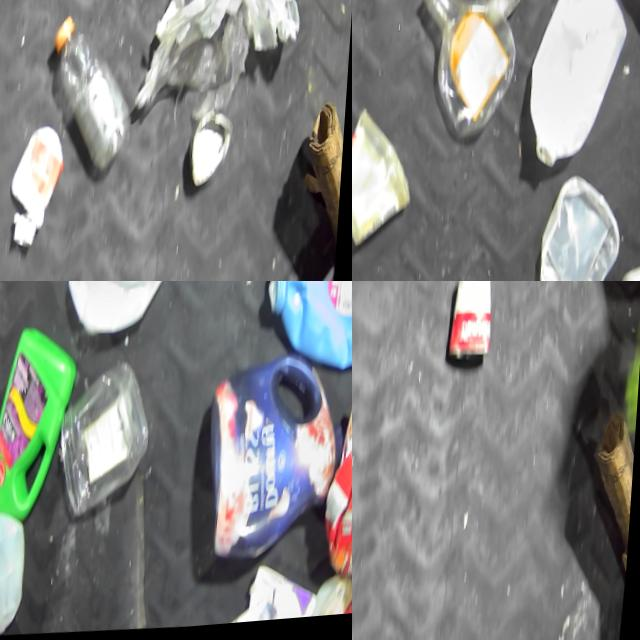can: (442, 281, 498, 379), (189, 116, 238, 197), (465, 0, 536, 28)
milk_jug: (522, 0, 635, 185), (65, 281, 197, 342), (0, 506, 39, 640)
non_white_jug: (201, 353, 352, 569), (0, 324, 84, 528), (264, 281, 352, 382)
plastic_bottle: (44, 16, 143, 184)
